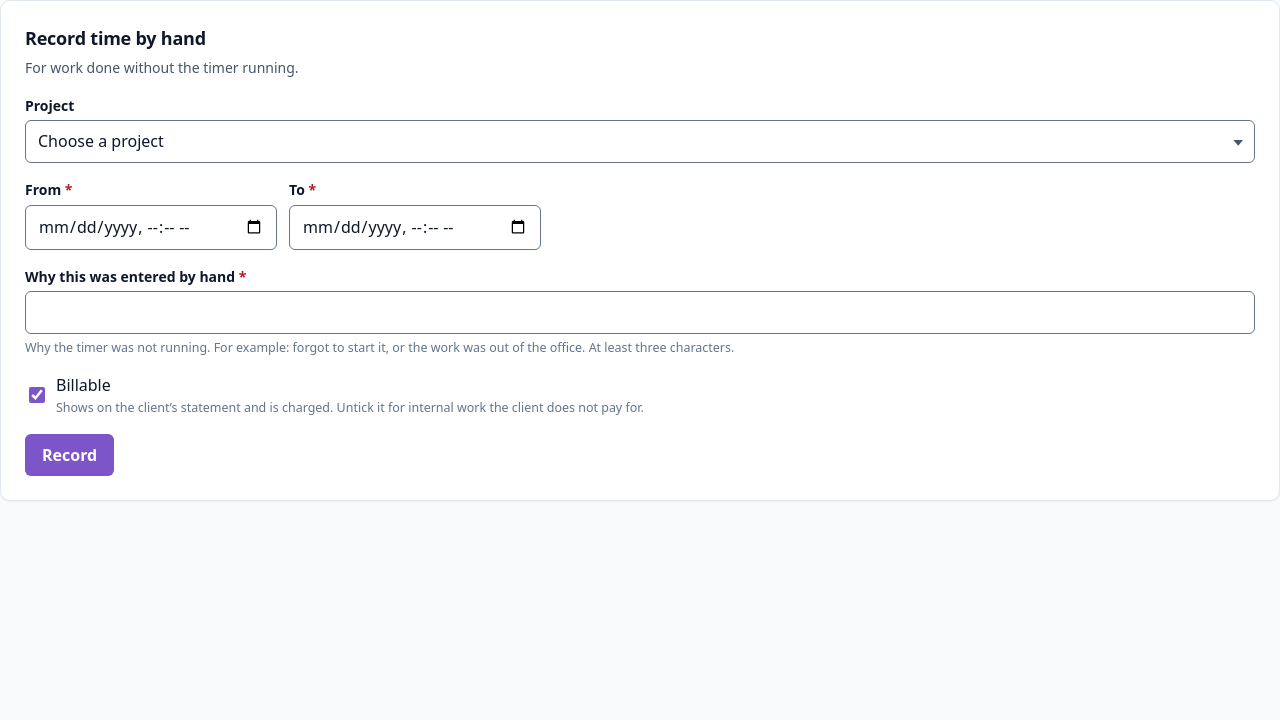
Test: time recorded by hand (FR-22) › confirms what was recorded and when, not what today looks like
Step 1. Select "Gulf Trading LLC — VAT return" in the dropdown labelled "Project" → [640, 142], box 25,120 -> 1255,163
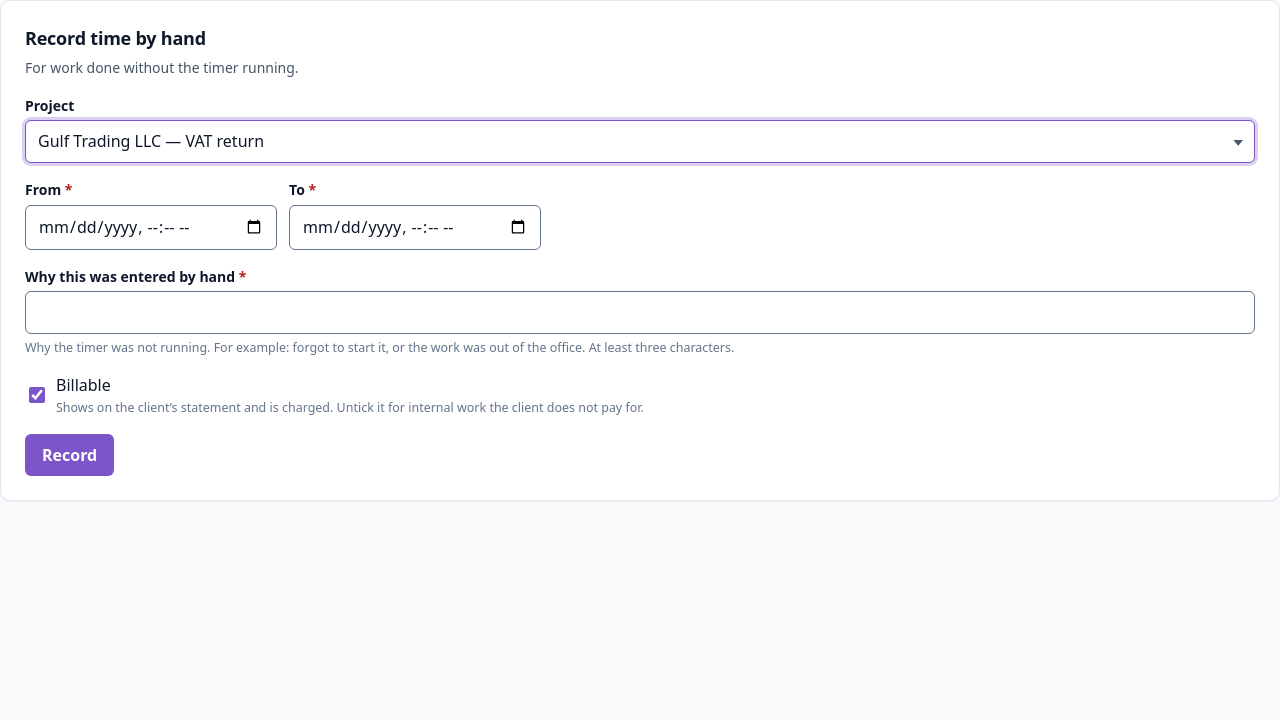
Step 2. Type "2026-09-14T14:00" into the field labelled "From" → [151, 227], box 25,205 -> 277,250
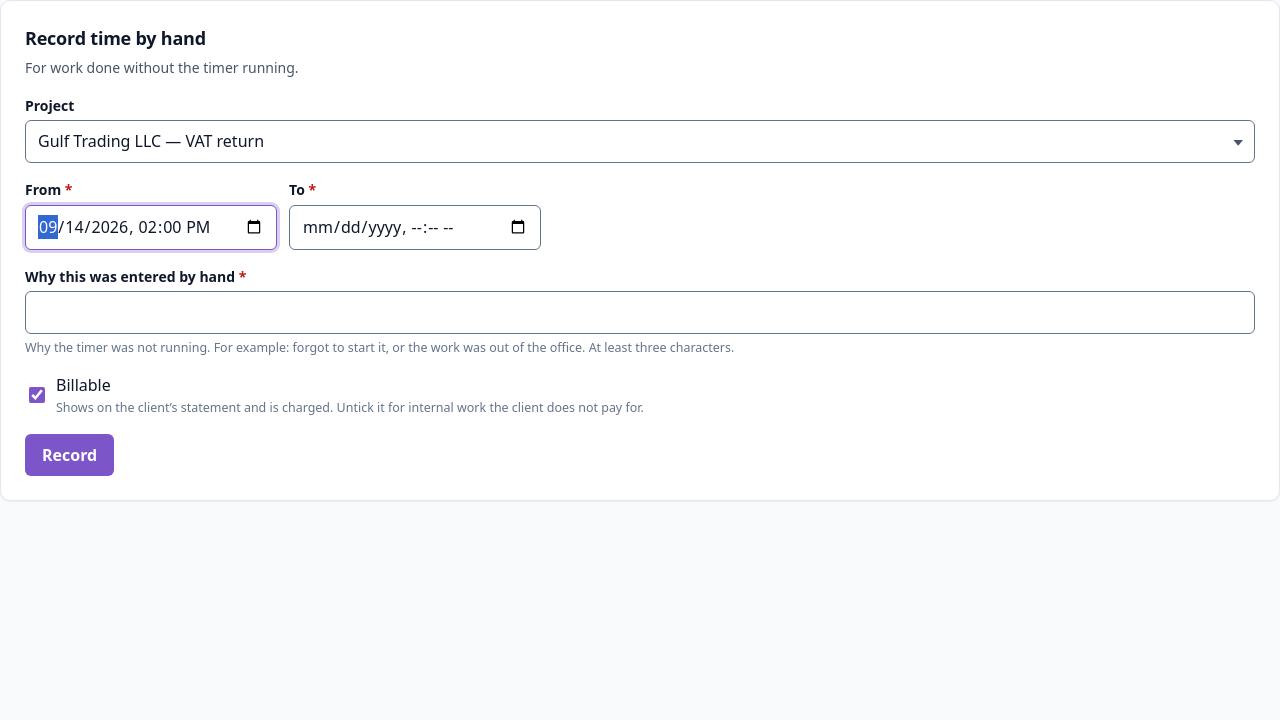
Step 3. Type "2026-09-14T15:45" into the field labelled "To" → [415, 227], box 289,205 -> 541,250
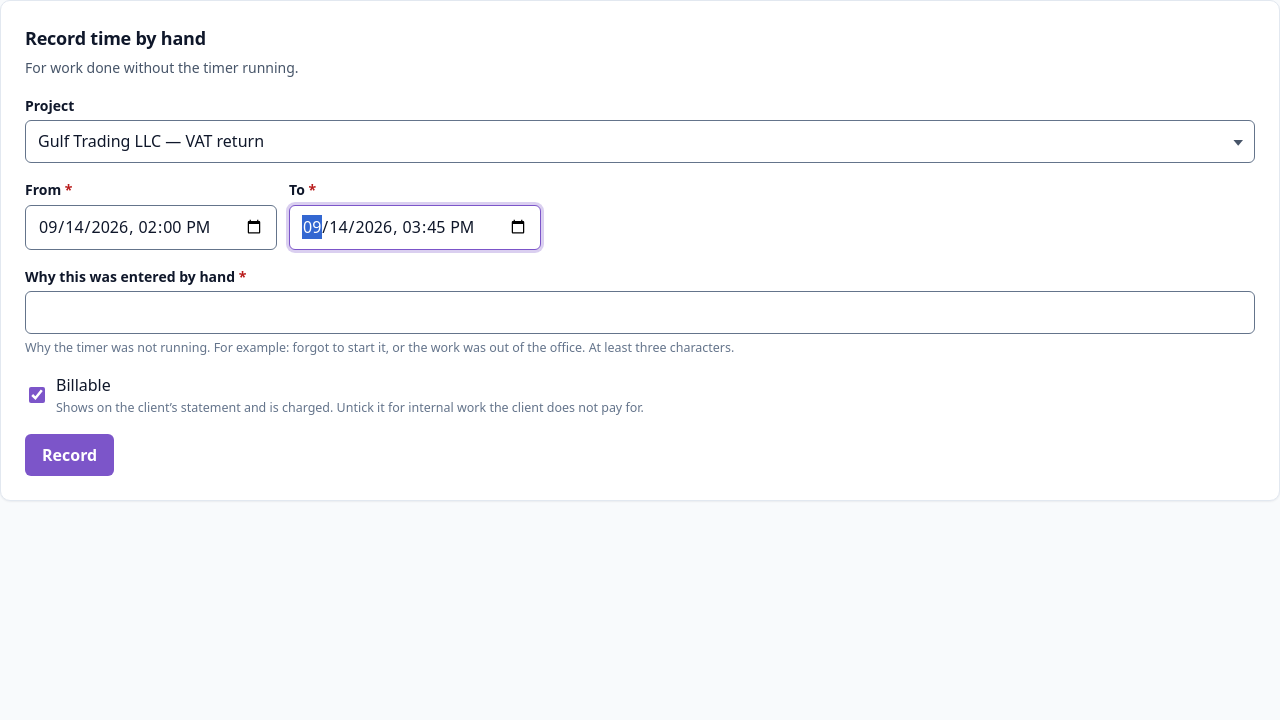
Step 4. Type "Call with the client" into the field labelled "Why this was entered by hand" → [640, 313], box 25,291 -> 1255,334
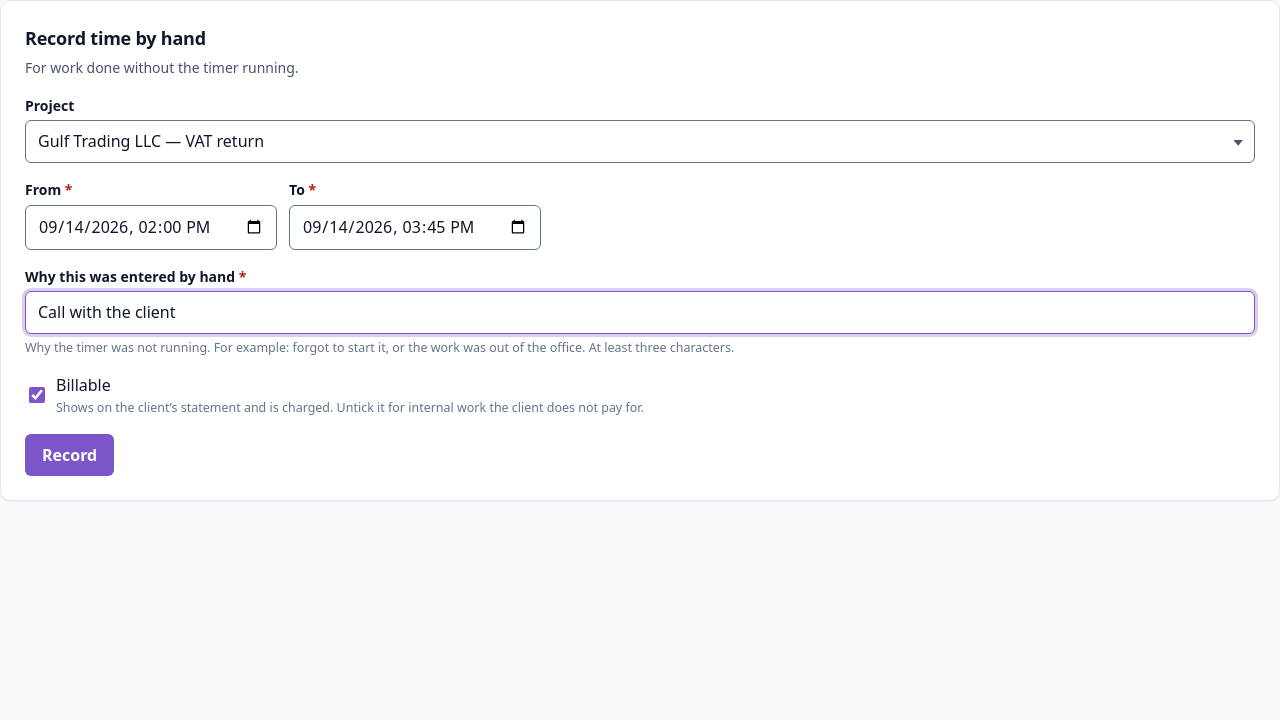
Step 5. Click the button "Record" → [70, 455], box 25,434 -> 114,476
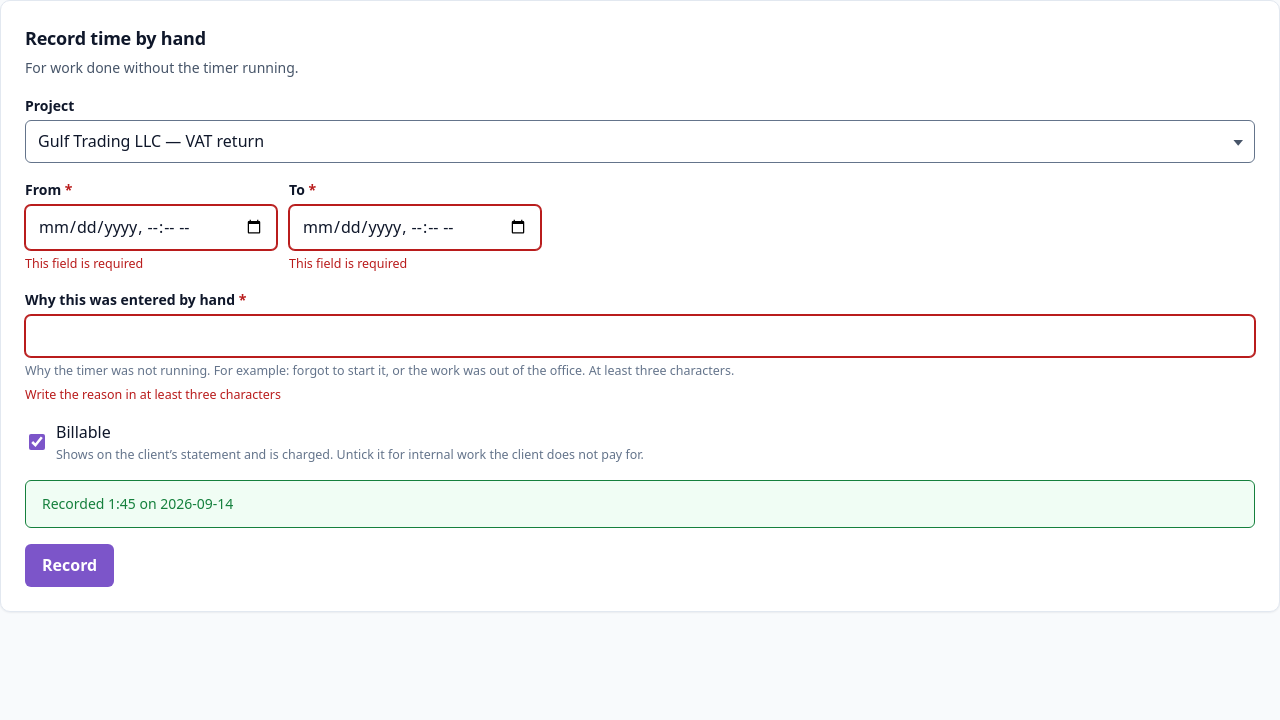
Check: the text "Recorded 1:45 on 2026-09-14" is shown, box 25,480 -> 1255,528
